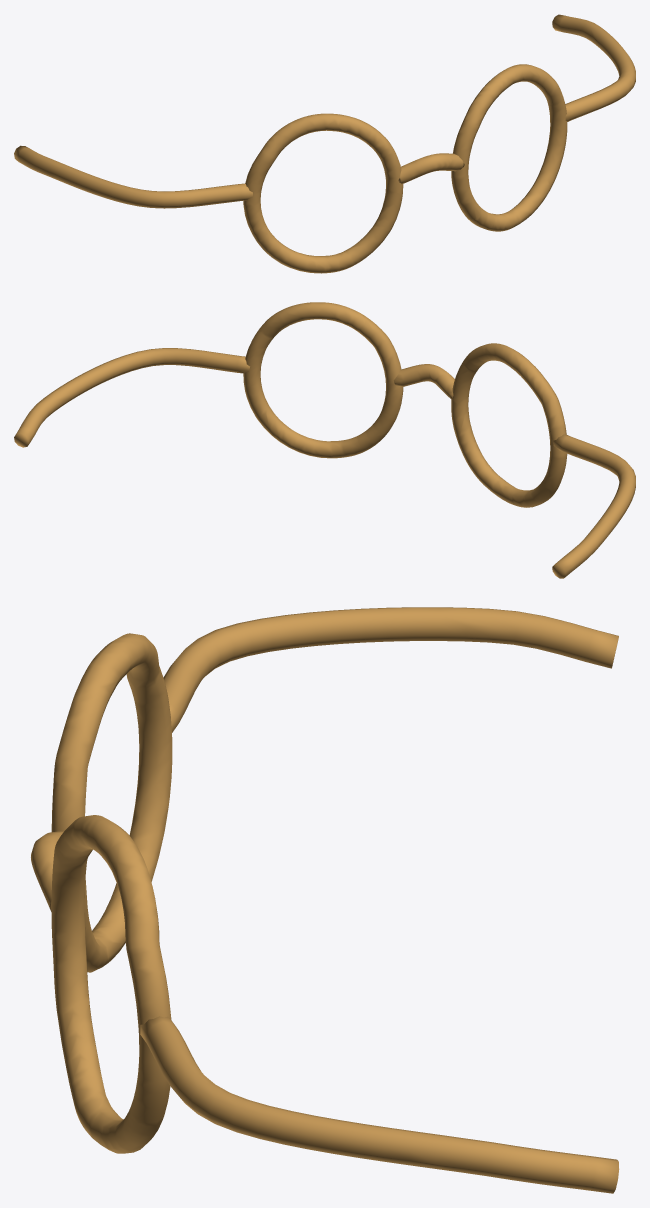
File: 3HT-feminino.glb
The picture shows the model from 3 angles, top to bottom: view 1: azimuth 30°, elevation 25°; view 2: azimuth 150°, elevation 25°; view 3: azimuth 270°, elevation 25°; orthographic projection. The views are drawn at different scales.
Visible parts, largest first — view 1: frame--1, frame-1, temple--1, temple-1, bridge; view 2: frame-1, frame--1, temple-1, temple--1, bridge; view 3: frame-1, temple-1, temple--1, frame--1, bridge.
Part boxes in pixels (x1,y1,x2,y2): frame--1: (243, 113, 403, 273); frame-1: (451, 64, 567, 231); temple--1: (14, 145, 252, 208); temple-1: (552, 14, 635, 121); bridge: (398, 153, 464, 184); frame-1: (243, 302, 403, 458); frame--1: (451, 343, 567, 507); temple-1: (14, 348, 249, 447); temple--1: (552, 434, 635, 578); bridge: (393, 364, 454, 399); frame-1: (51, 815, 171, 1153); temple-1: (140, 1016, 619, 1193); temple--1: (163, 607, 618, 732); frame--1: (51, 633, 172, 972); bridge: (31, 831, 63, 911).
Bounding box in the file's own units: 0.0569 × 0.015 × 0.0257.
